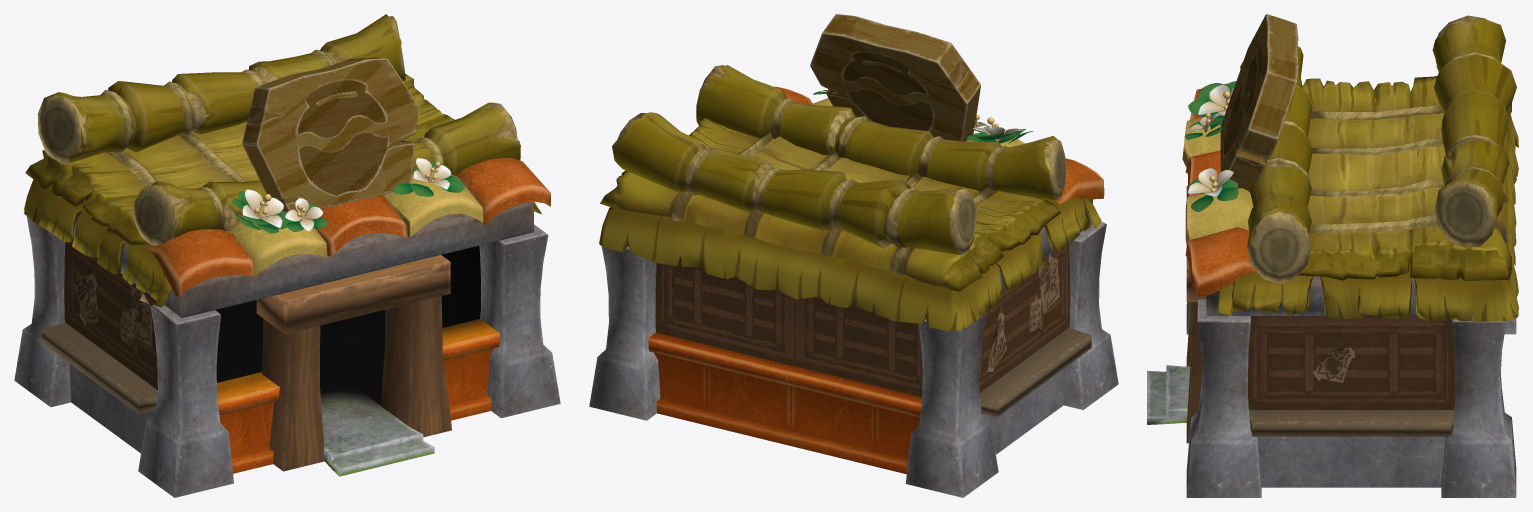
The model's file is tienda.obj.
The picture shows the model from 3 angles, left to right: view 1: azimuth 30°, elevation 25°; view 2: azimuth 150°, elevation 25°; view 3: azimuth 270°, elevation 25°; orthographic projection. The views are drawn at different scales.
Visible parts, largest first — view 1: BdShop__MI_BdShop_01, signboard_flower__MI_Bdshop_signboard_01; view 2: BdShop__MI_BdShop_01, signboard_flower__MI_Bdshop_signboard_01; view 3: BdShop__MI_BdShop_01, signboard_flower__MI_Bdshop_signboard_01.
Part boxes in pixels (<box>): BdShop__MI_BdShop_01: <box>14,14,560,497</box>; signboard_flower__MI_Bdshop_signboard_01: <box>231,57,464,233</box>; BdShop__MI_BdShop_01: <box>589,65,1118,497</box>; signboard_flower__MI_Bdshop_signboard_01: <box>810,14,1033,143</box>; BdShop__MI_BdShop_01: <box>1147,15,1518,497</box>; signboard_flower__MI_Bdshop_signboard_01: <box>1185,14,1298,211</box>.
Size of the model in its own units: 1.67 by 1.43 by 1.33.
